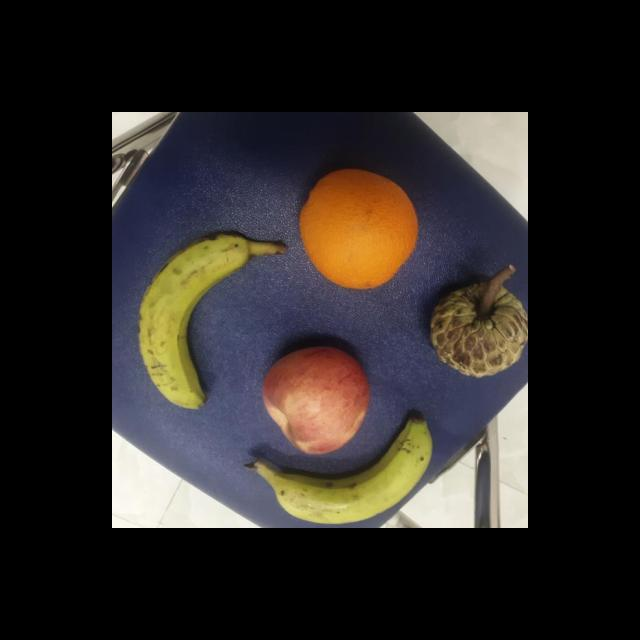Sakya fruit: (426, 276, 528, 382)
apple: (262, 337, 374, 458)
banana: (248, 414, 448, 528), (137, 227, 255, 410)
orange: (296, 168, 422, 288)
